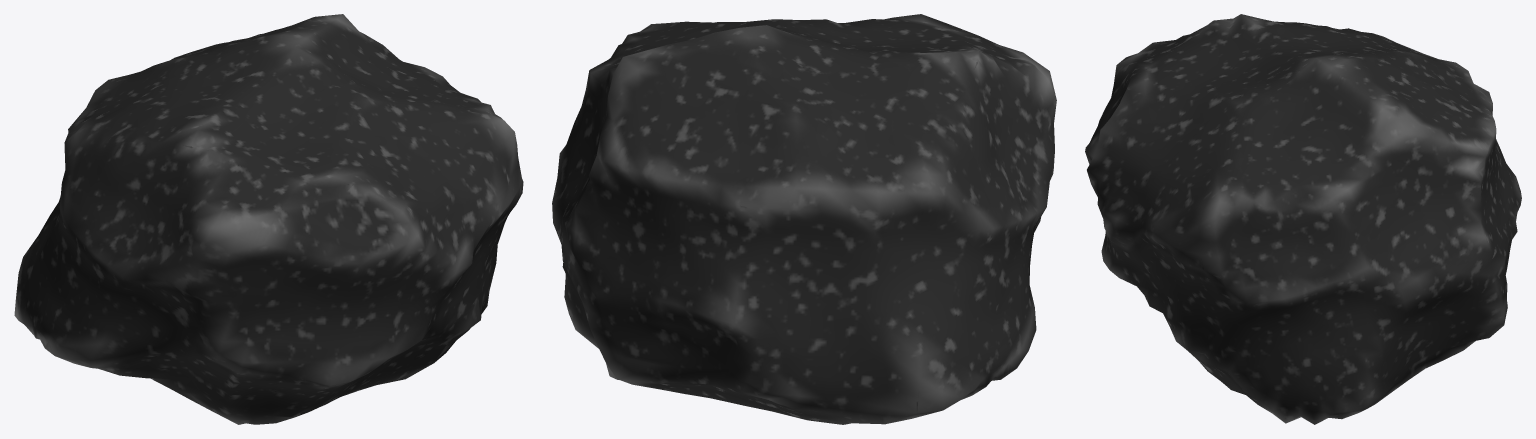
File: lunar_rock15.glb
3 renders of one model, left to right at view 1: azimuth 30°, elevation 25°; view 2: azimuth 150°, elevation 25°; view 3: azimuth 270°, elevation 25°, orthographic. The views are drawn at different scales.
Visible parts, largest first — view 1: lunar_rock_15; view 2: lunar_rock_15; view 3: lunar_rock_15.
Part boxes in pixels (x1=…): lunar_rock_15: x1=14, y1=14, x2=523, y2=424; lunar_rock_15: x1=552, y1=14, x2=1056, y2=424; lunar_rock_15: x1=1085, y1=14, x2=1521, y2=424.
Bounding box in the file's own units: 0.1624 × 0.12 × 0.1533.
1 material, 1 textured.
